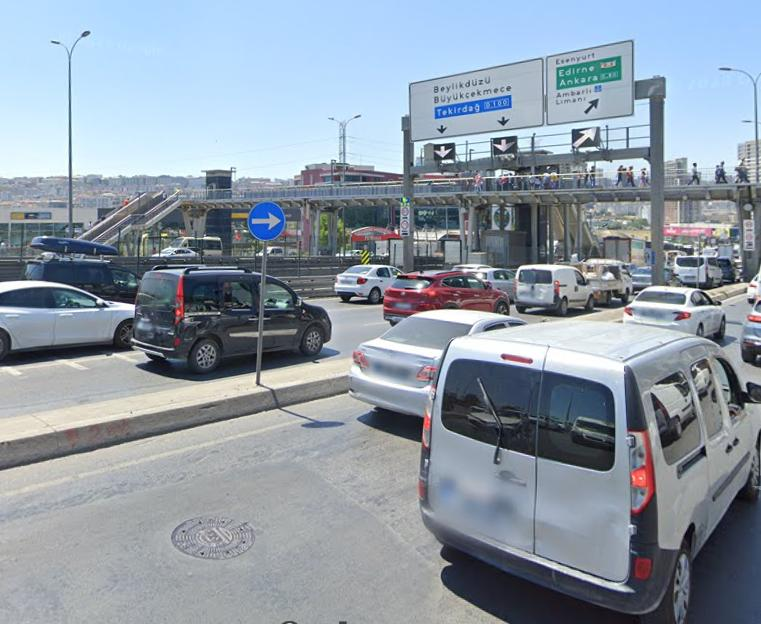turnright: (247, 200, 287, 240)
